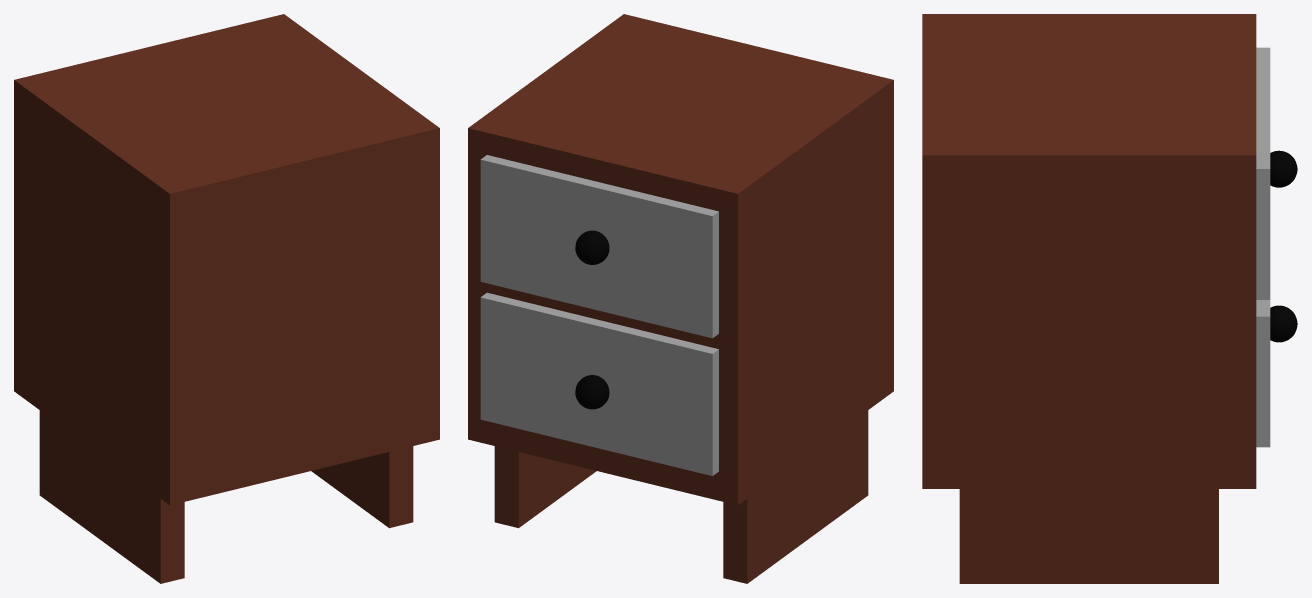
Rendered from side_draw.fbx.
3 renders of one model, left to right at view 1: azimuth 30°, elevation 25°; view 2: azimuth 150°, elevation 25°; view 3: azimuth 270°, elevation 25°, orthographic. The views are drawn at different scales.
Visible parts, largest first — view 1: pCube1, pasted__pCube1, pasted__pasted__pCube1; view 2: pCube1, pasted__pCube1 (×2), pasted__pasted__pCube1 (×2), pSphere1, pasted__pSphere1; view 3: pCube1, pasted__pasted__pCube1 (×2), pasted__pCube1, pSphere1, pasted__pSphere1.
Part boxes in pixels (x1,y1,x2,y2): pCube1: (14,14,439,505); pasted__pCube1: (39,410,184,583); pasted__pasted__pCube1: (311,446,413,528); pCube1: (468,14,893,505); pasted__pCube1 (×2): (480,155,868,583); pasted__pasted__pCube1 (×2): (480,292,718,528); pSphere1: (575,375,609,409); pasted__pSphere1: (575,230,609,264); pCube1: (922,14,1256,488); pasted__pasted__pCube1 (×2): (959,300,1270,583); pasted__pCube1: (1256,47,1270,299); pSphere1: (1270,305,1297,342); pasted__pSphere1: (1270,150,1297,187).
Size of the model in its own units: 3.62 by 5.18 by 4.06.
